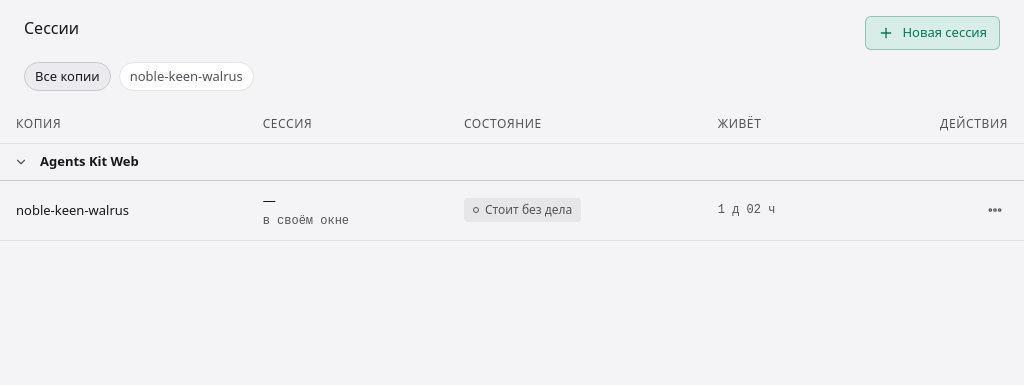
Test: сессию своего окна из панели не погасить и в неё не войти
Click the button named "Действия с сессией в noble-keen-walrus".
click(995, 210)  # box [982, 197, 1008, 223]
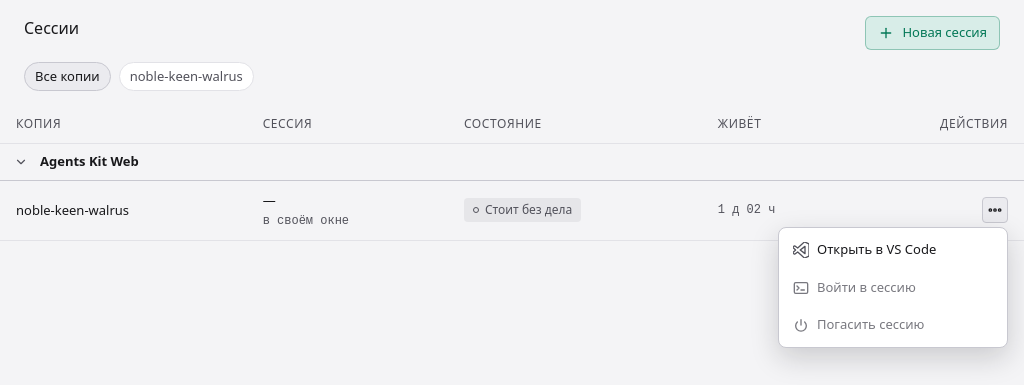
Check: the menu item "Погасить сессию" is disabled, box [783, 307, 1003, 343]
Check: the menu item "Войти в сессию" is disabled, box [783, 270, 1003, 305]
